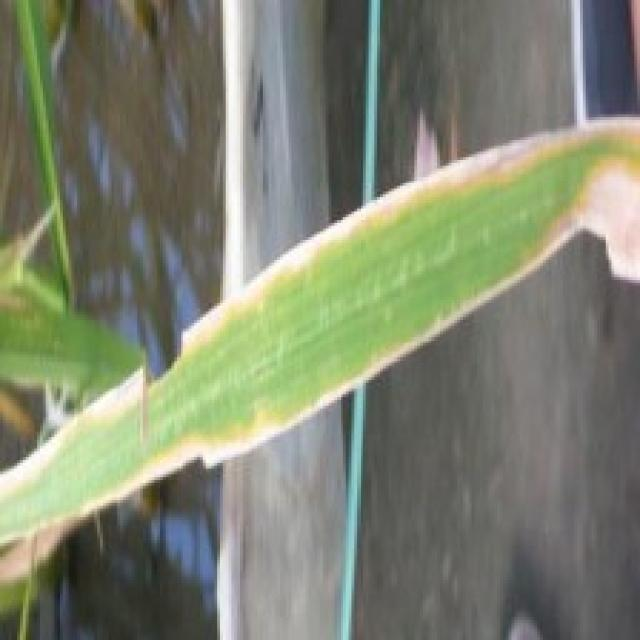Rice___Bacterial_Leaf_Blight: (0, 114, 637, 549)
